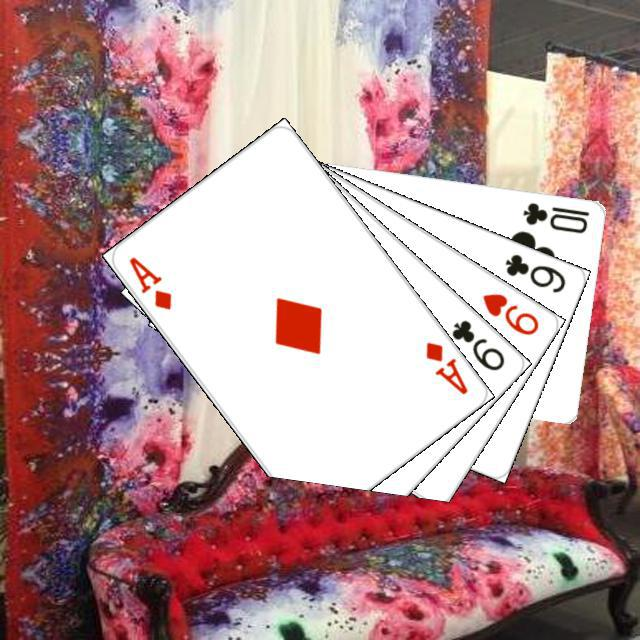10c: (518, 197, 591, 235)
6c: (500, 249, 568, 295)
9c: (447, 315, 507, 373)
9h: (477, 288, 541, 337)
Ad: (123, 251, 174, 312), (420, 337, 470, 397)
